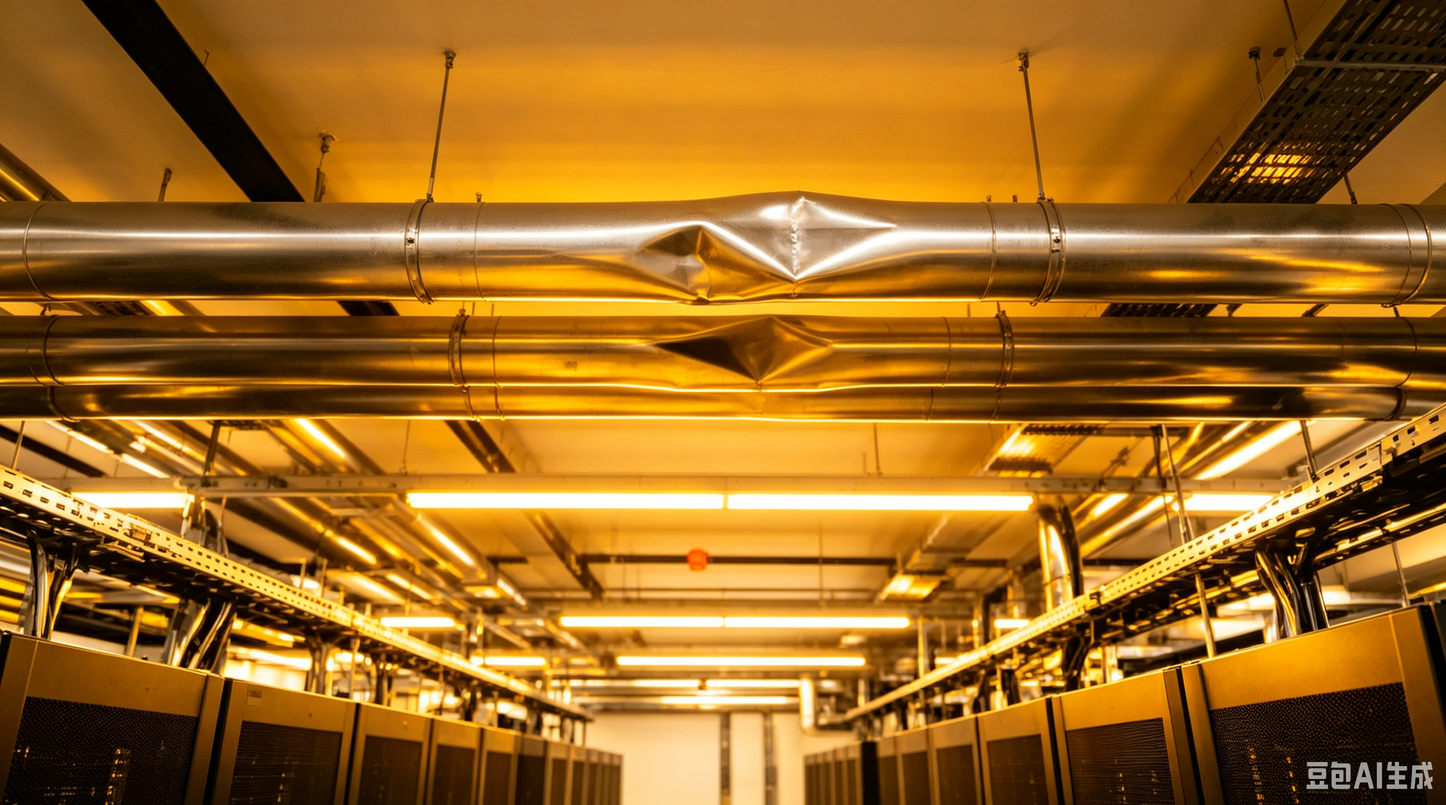Leakage: (605, 322, 881, 411), (705, 197, 899, 278), (609, 225, 755, 308)
